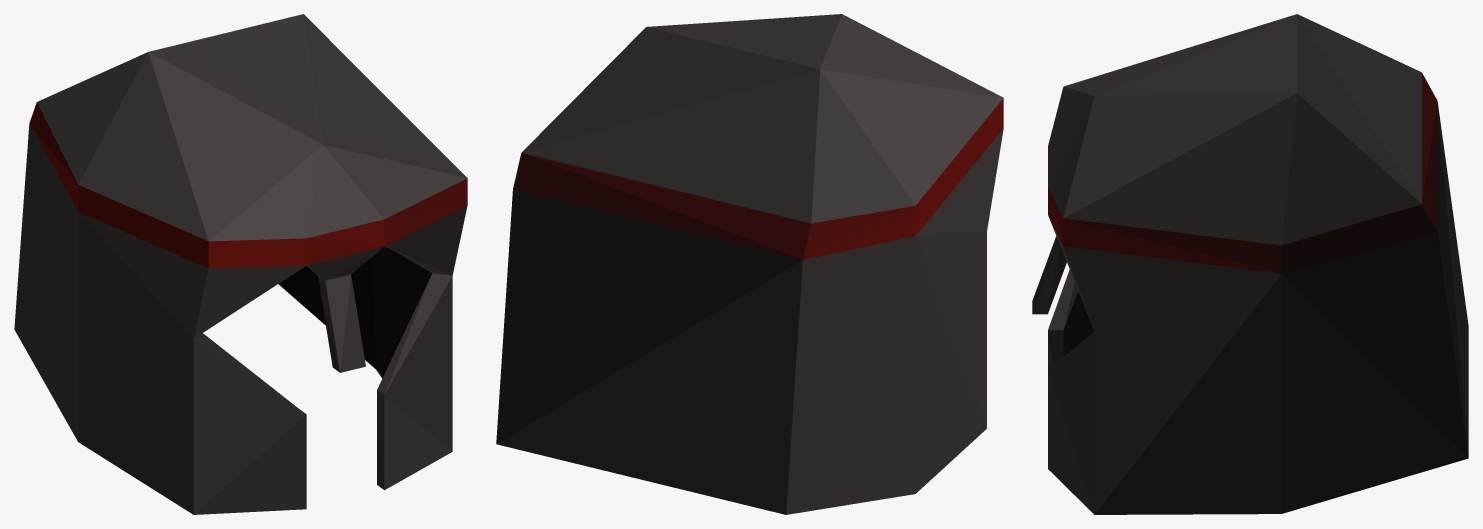
File: iron-med-helm.obj
3 views of the same model, side by side, from view 1: azimuth 30°, elevation 25°; view 2: azimuth 150°, elevation 25°; view 3: azimuth 270°, elevation 25° (orthographic). The views are drawn at different scales.
Parts seen in each view (by area): view 1: Item Iron med helm 2026-09-24_18-17-30; view 2: Item Iron med helm 2026-09-24_18-17-30; view 3: Item Iron med helm 2026-09-24_18-17-30.
Boxes of the visible parts, bbox=[...] form: Item Iron med helm 2026-09-24_18-17-30: bbox=[14, 14, 467, 514]; Item Iron med helm 2026-09-24_18-17-30: bbox=[496, 14, 1003, 514]; Item Iron med helm 2026-09-24_18-17-30: bbox=[1032, 14, 1468, 514].
Size of the model in its own units: 24 by 28 by 28.
